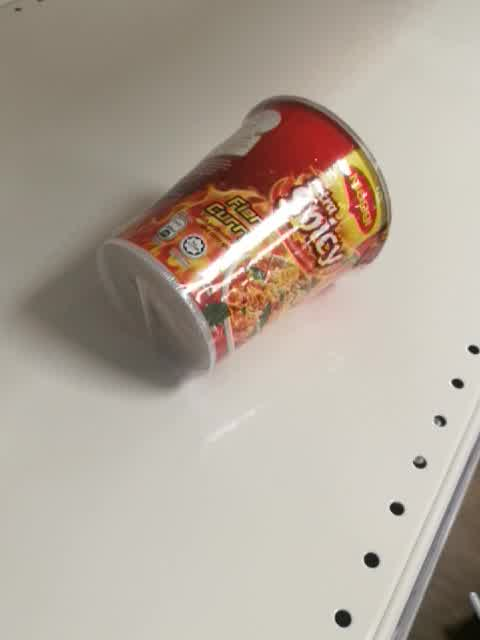maggi: (97, 94, 393, 373)
